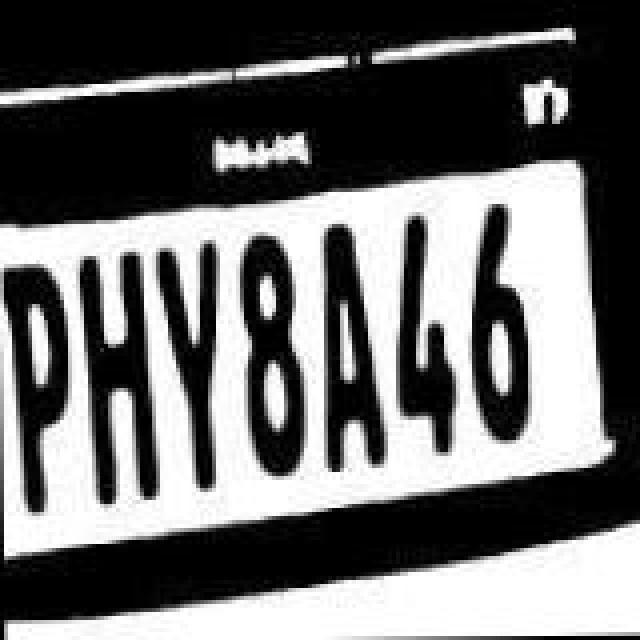4: (392, 208, 456, 460)
6: (466, 200, 534, 448)
8: (236, 222, 308, 482)
A: (318, 220, 386, 476)
H: (78, 240, 162, 512)
P: (2, 254, 74, 522)
Y: (154, 240, 222, 500)
